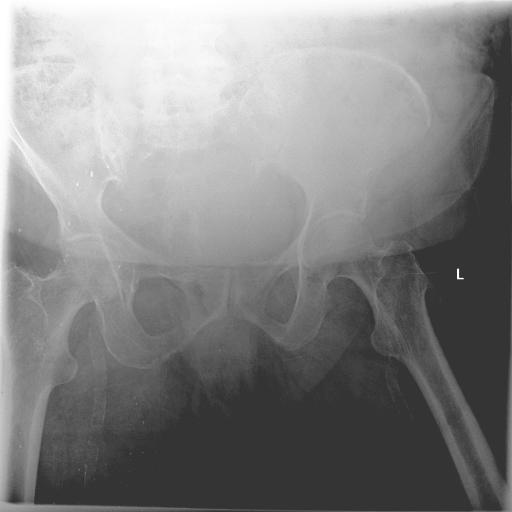normal: (311, 215, 484, 451), (0, 240, 122, 504)
